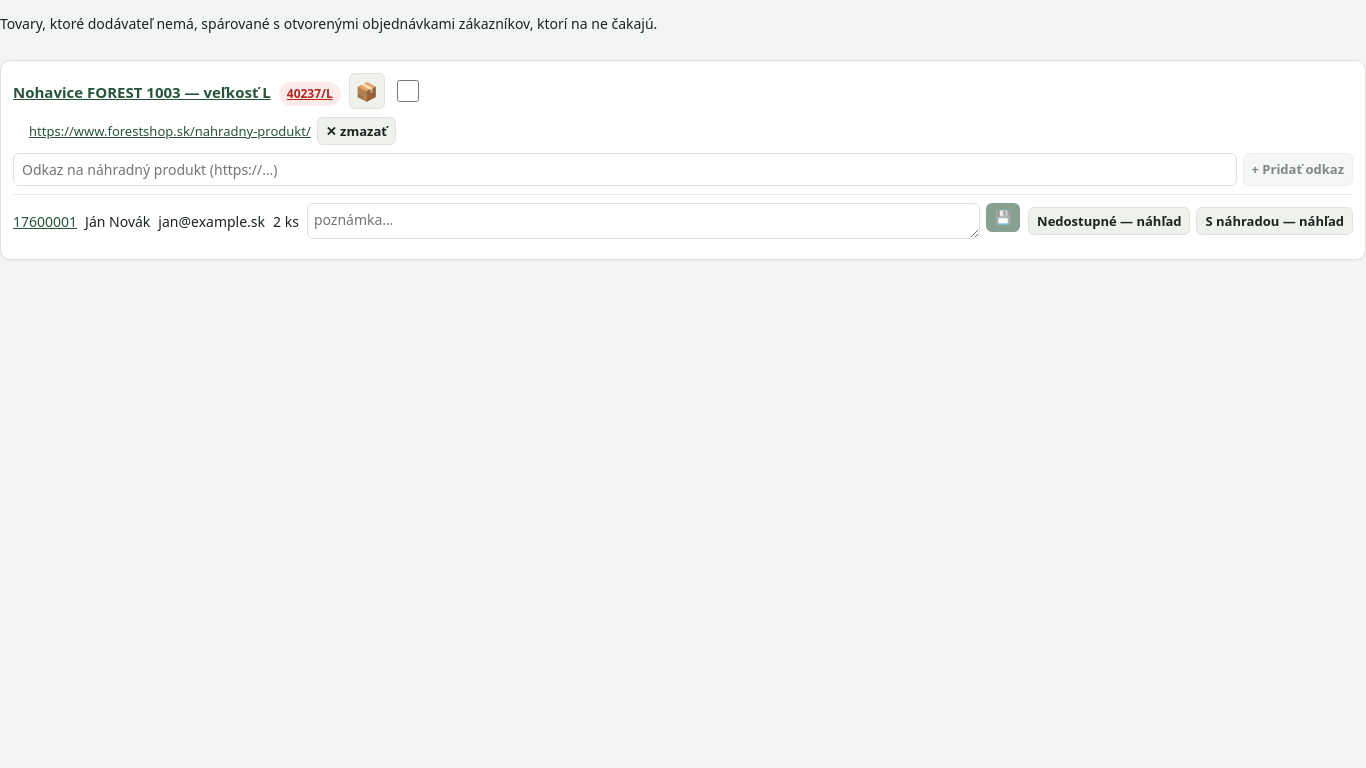
potvrdenie náhľadu odošle presne s parametrami náhľadu a znovu načíta zoznam
This screenshot has width=1366, height=768.
Expected: the element with test id "nedostupne-group-40237/L" is shown, [0, 60, 1365, 260]
Click the button with test id "nedostupne-send-17600001-40237/L" at (1109, 221), box [1028, 207, 1190, 236]
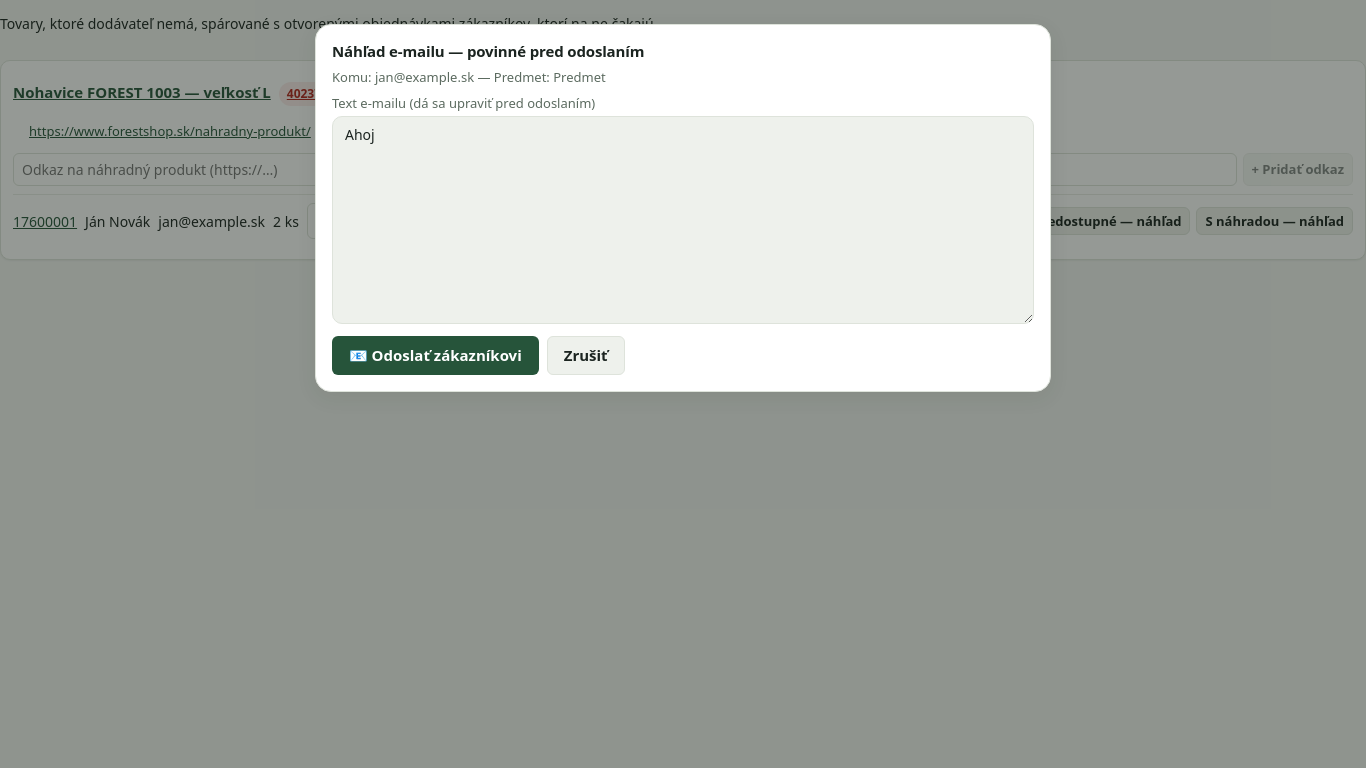
Now the dialog with test id "nedostupne-preview" is shown, box [315, 24, 1051, 392]
Click the button with test id "nedostupne-preview-confirm" at (435, 356), box [332, 336, 539, 375]
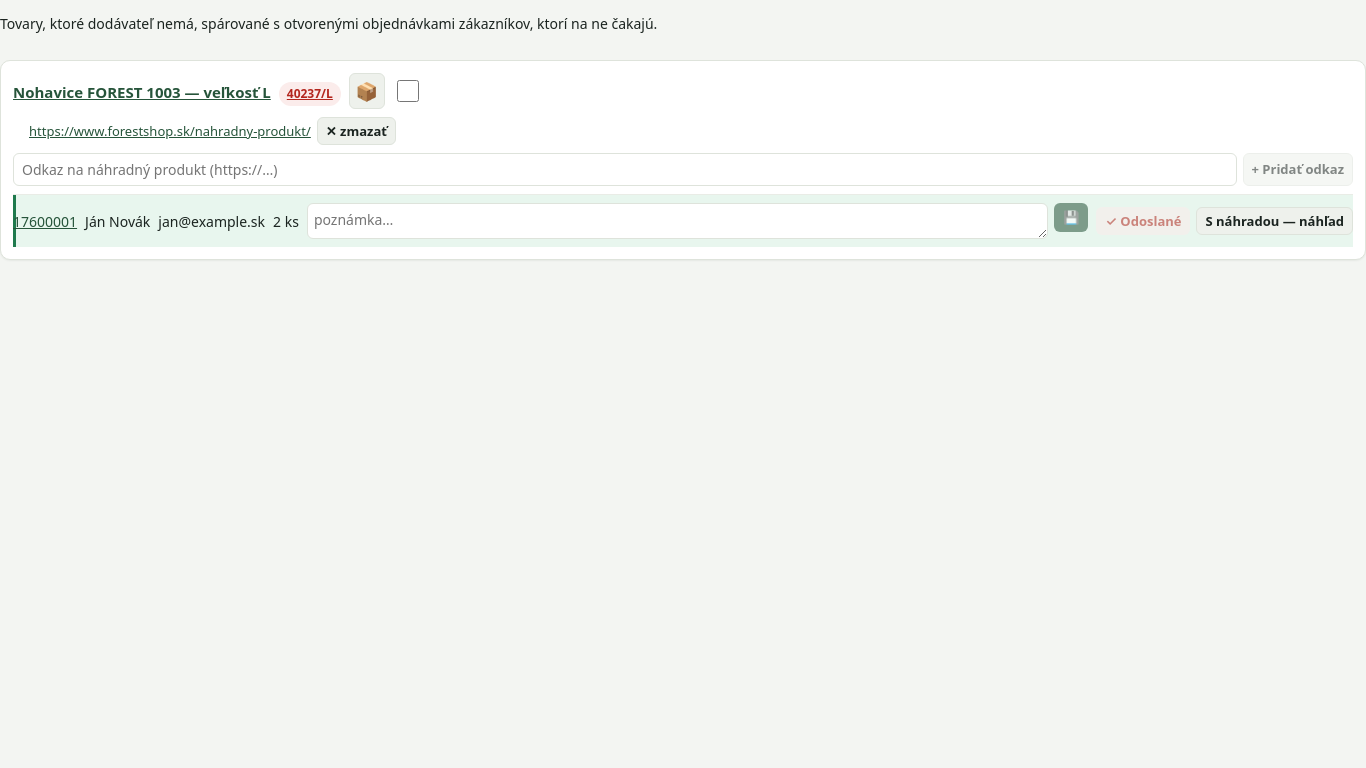
Now the dialog with test id "nedostupne-preview" is gone
